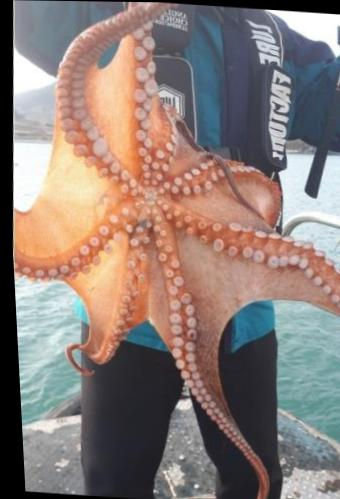Cephalopod: (11, 1, 340, 499)
